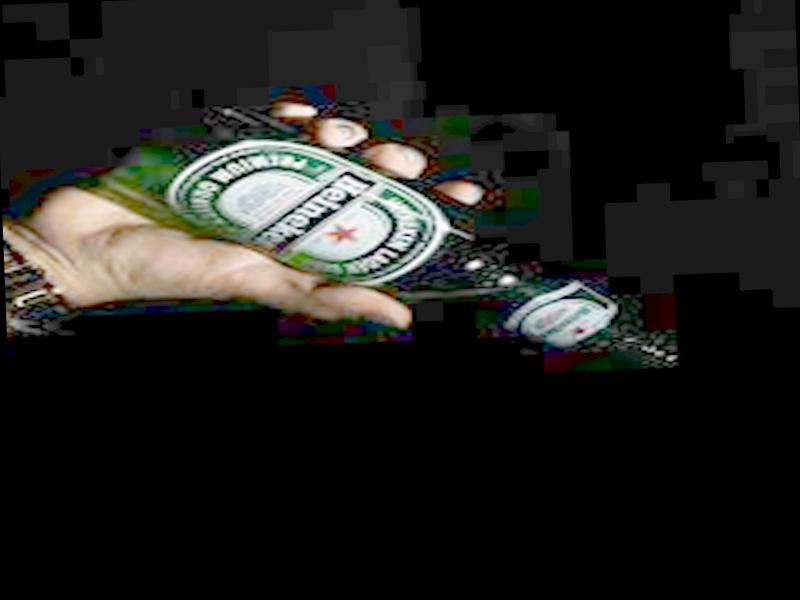Beer: (71, 79, 701, 395)
